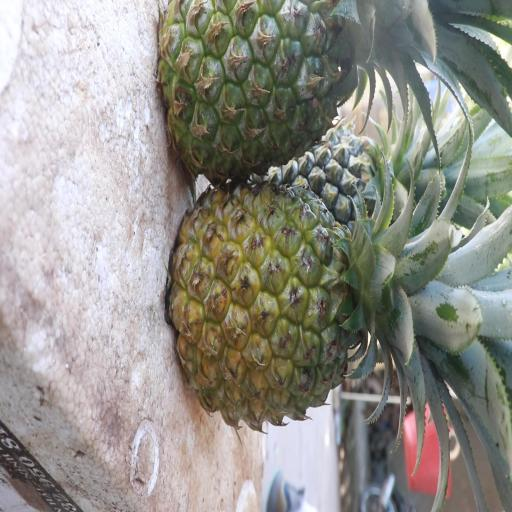------------------------------: (158, 2, 374, 182)
Pineapple - v8 v1: (173, 179, 408, 432)
